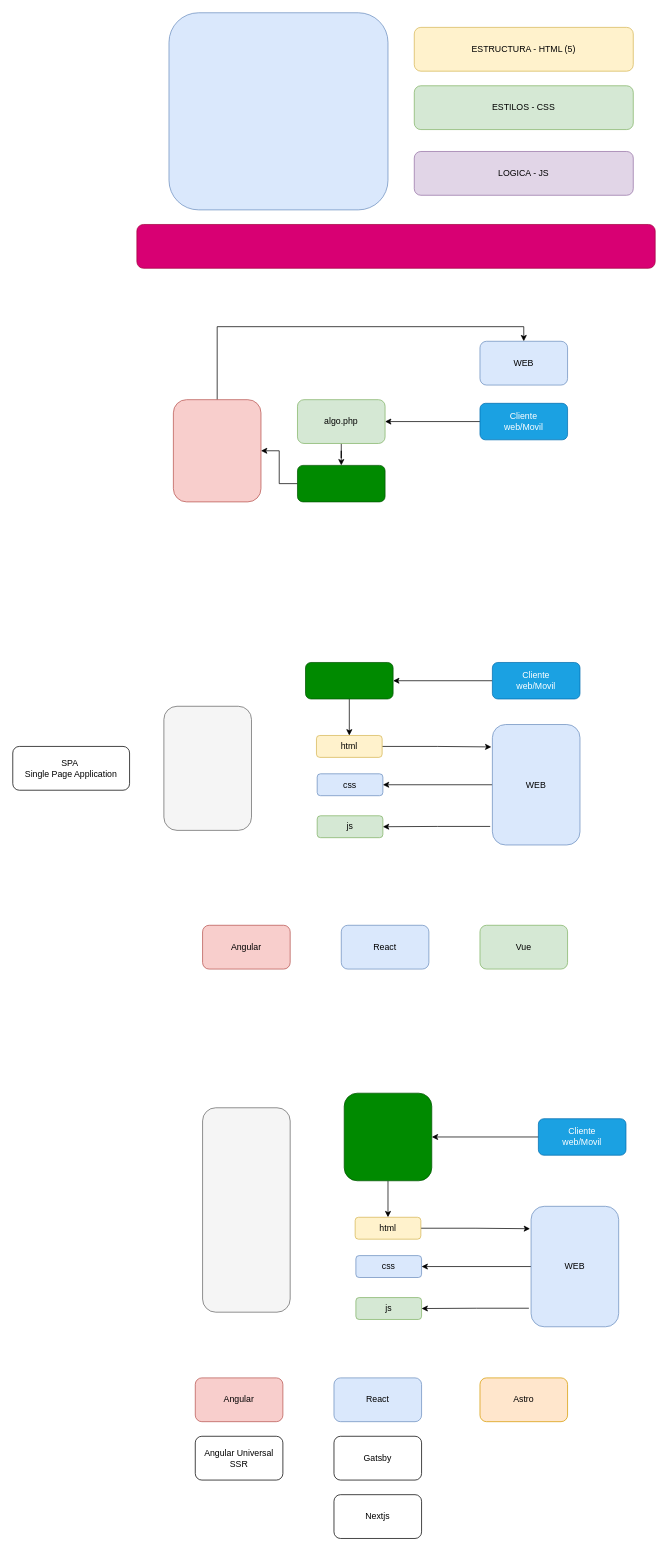
This 668x1551 diagram has some shape labels left out. The centre of each missing label's shape, as x and y in pixels:
"Bloques empaquetados web" belongs at [395,246].
"GENERADOR HTML CSS JS SERVIDOR" belongs at [217,450].
"GENRADOR HTML CSS JS CLIENTE" belongs at [207,768].
"SERVER SIDE RENDERING" belongs at [246,1209].
"Servidor nodejs Servidor Statico" belongs at [387,1136].
"Servidor Statico" belongs at [349,680].
"Servidor XAMP PHP" belongs at [341,483].
"Web Components" belongs at [278,111].
